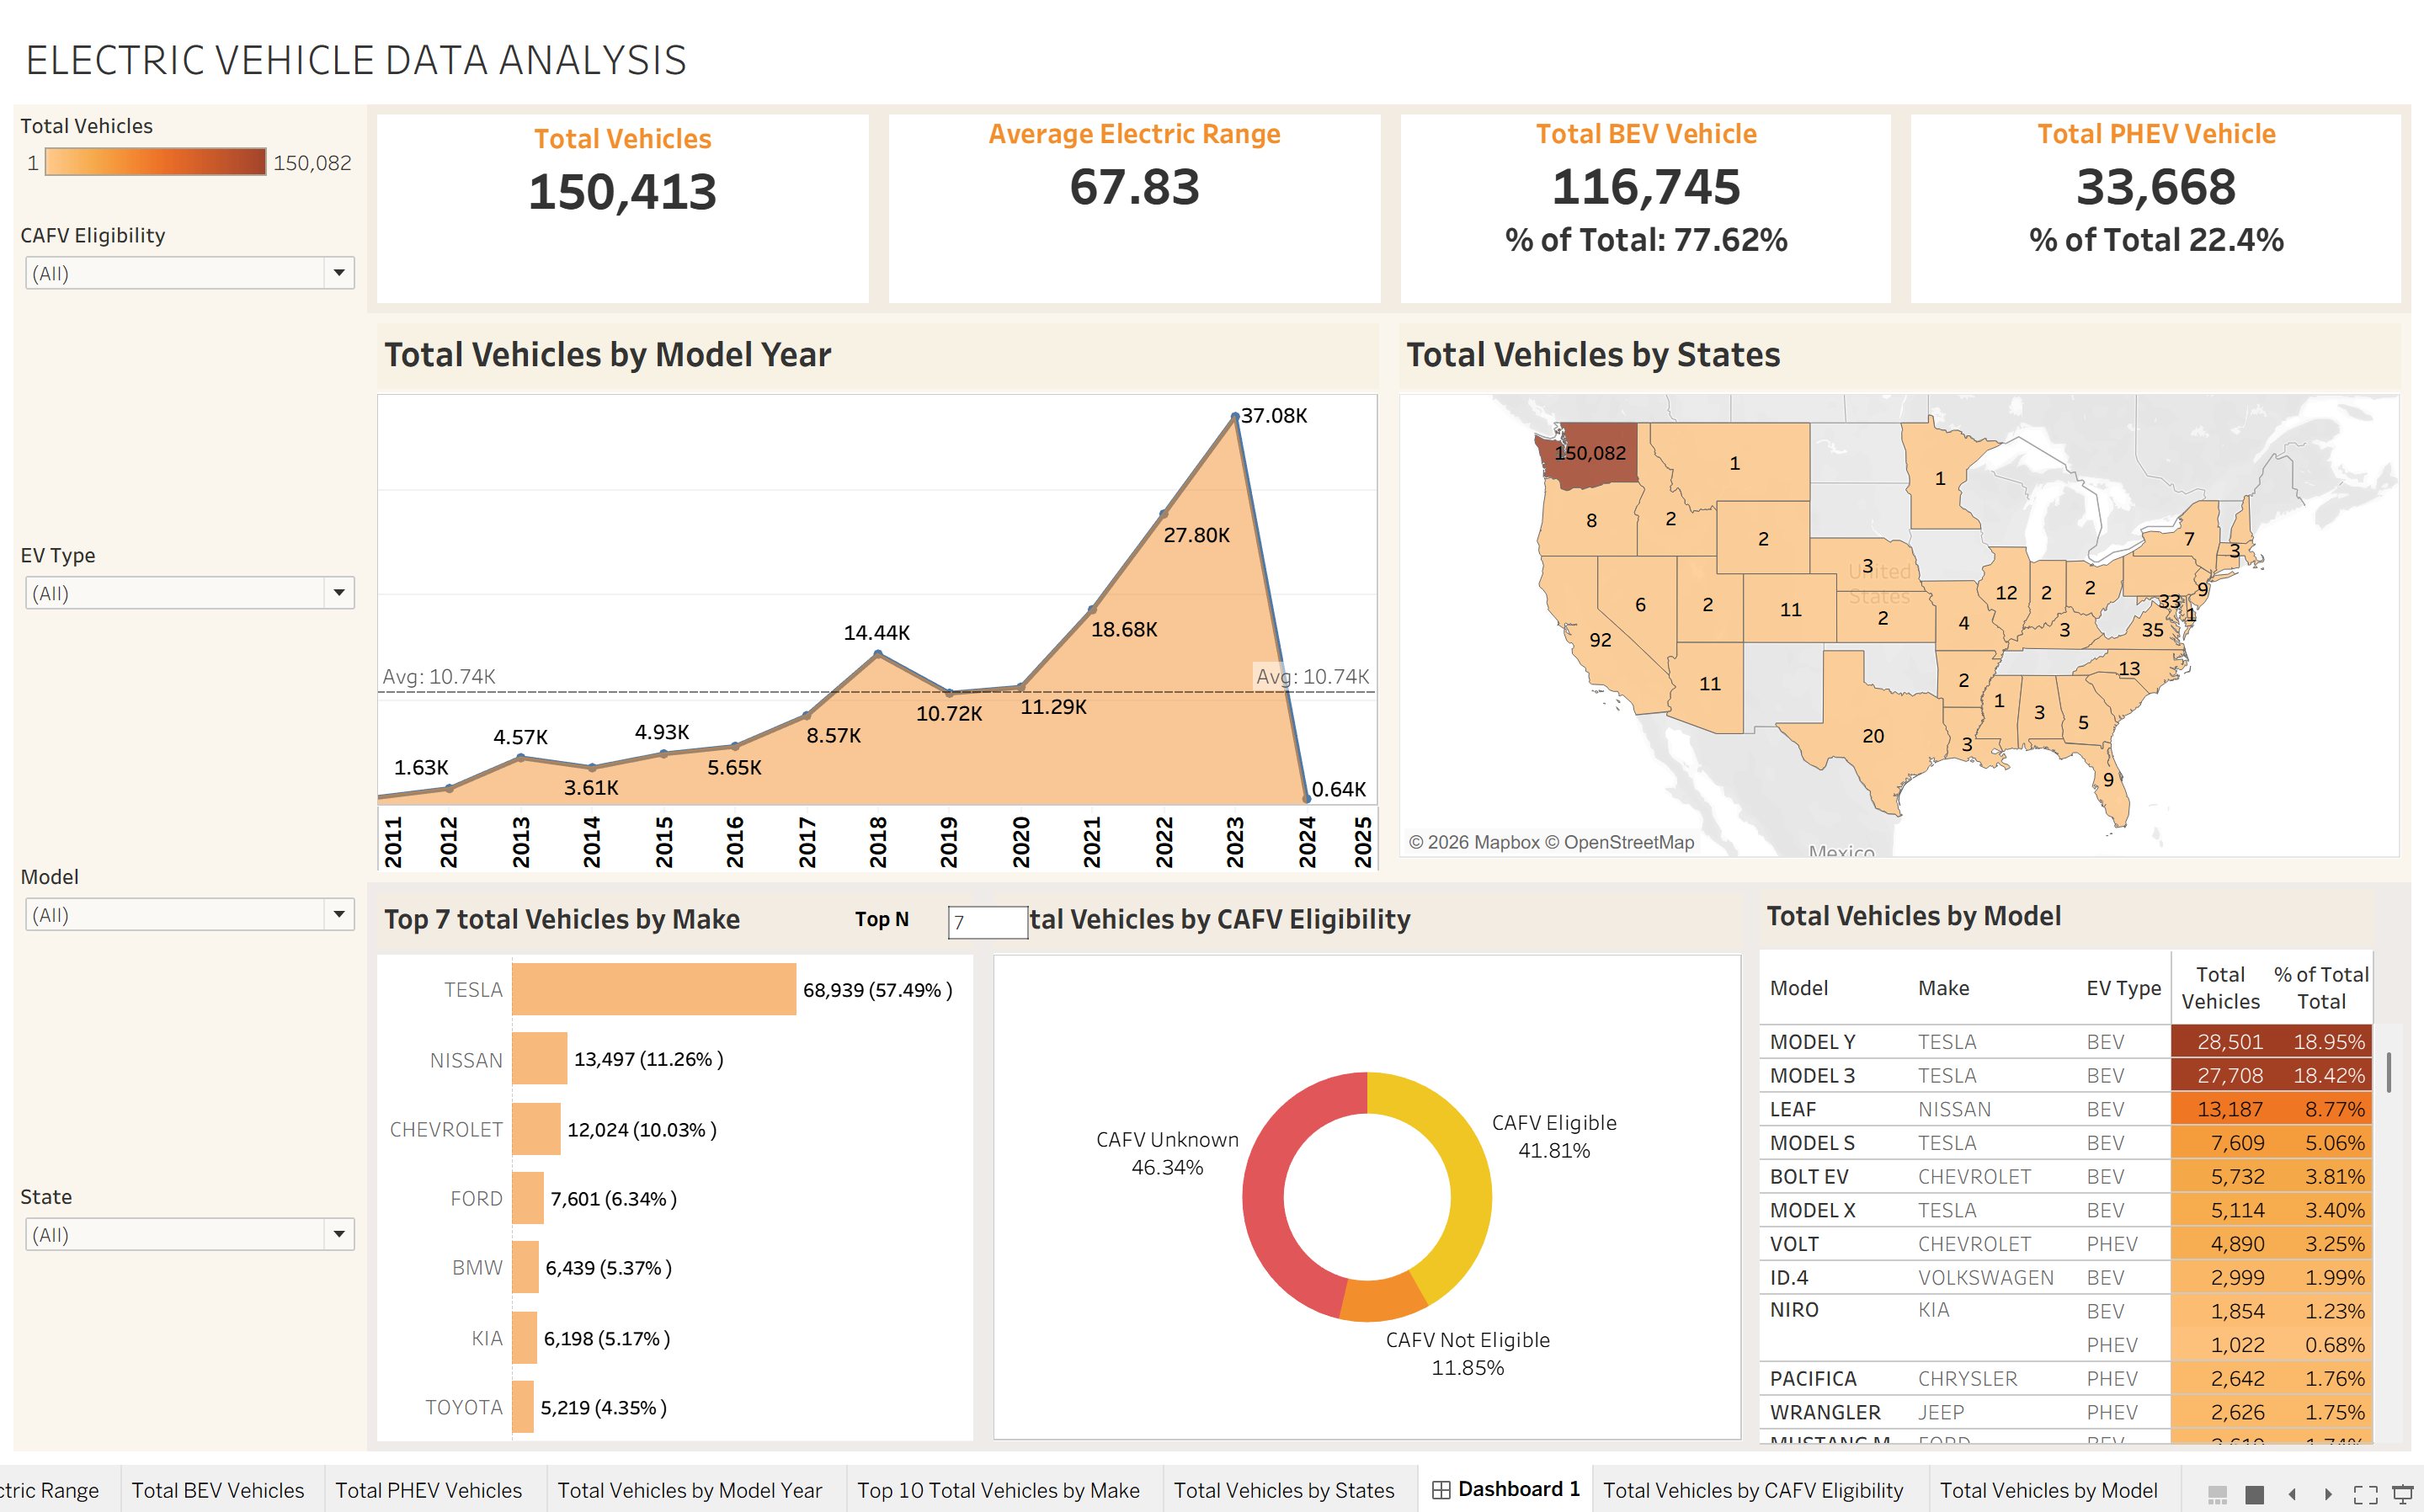

The page's visual inventory and layout, read from the dashboard file:
{"tool":"tableau","page":{"name":"Dashboard 1","canvas":[1000,1000],"units":"permille","ordinal":0},"visuals":[{"type":"title","box":[6.5,11.2,987,61.4]},{"type":"legend","title":"Total Vehicles by States","param":"[federated.1lwhfn50xj31sc145qq3x0dmc0c0].[usr:Calculation_0135836739756032:qk]","box":[6.5,72.6,145.6,90.8]},{"type":"worksheet","title":"Total Vehicles","mark":"Automatic","box":[152.2,72.6,210.7,142.5]},{"type":"worksheet","title":"Average Electric Range","mark":"Automatic","box":[362.9,72.6,210.7,142.5]},{"type":"worksheet","title":"Total BEV Vehicles","mark":"Automatic","box":[573.6,72.6,209.9,142.5]},{"type":"worksheet","title":"Total PHEV Vehicles ","mark":"Automatic","box":[783.6,72.6,209.9,142.5]},{"type":"filter","title":"Total Vehicles by States","param":"[federated.1lwhfn50xj31sc145qq3x0dmc0c0].[none:Clean Alternative Fuel Vehicle (C","box":[6.5,163.4,145.6,72.6]},{"type":"worksheet","title":"Total Vehicles by Model Year","mark":"Line","rows":["Calculation_0135836739756032","Calculation_0135836739756032"],"cols":["Model Year"],"box":[152.2,215.1,420.7,386.9]},{"type":"worksheet","title":"Total Vehicles by States","mark":"Multipolygon","box":[572.8,215.1,420.7,386.9]},{"type":"blank","box":[6.5,236,145.6,126.2]},{"type":"filter","title":"Top 10 Total Vehicles by Make","param":"[federated.1lwhfn50xj31sc145qq3x0dmc0c0].[none:Electric Vehicle Type:nk]","box":[6.5,362.2,145.6,72.6]},{"type":"blank","box":[6.5,434.8,145.6,126.2]},{"type":"filter","title":"Total Vehicles by States","param":"[federated.1lwhfn50xj31sc145qq3x0dmc0c0].[none:Model:nk]","box":[6.5,561,145.6,72.6]},{"type":"worksheet","title":"Top 10 Total Vehicles by Make","mark":"Automatic","rows":["Make"],"cols":["Calculation_0135836739756032"],"box":[152.1,601.9,297.8,386.9]},{"type":"worksheet","title":"Total Vehicles by CAFV Eligibility","mark":"Pie","rows":["Calculation_0135836764180489","Calculation_0135836764180489"],"box":[449.9,601.9,239.2,386.9]},{"type":"worksheet","title":"Total Vehicles by Model","mark":"Square","rows":["Model","Make","Electric Vehicle Type"],"box":[689.2,601.9,304.3,386.9]},{"type":"parameter","param":"[Parameters].[Parameter 1]","box":[336.1,610.3,92.8,43.3]},{"type":"blank","box":[6.5,633.6,145.6,126.2]},{"type":"filter","title":"Total Vehicles by States","param":"[federated.1lwhfn50xj31sc145qq3x0dmc0c0].[none:State:nk]","box":[6.5,759.8,145.6,229.1]}]}

Visuals, with their boxes on the dashboard's canvas, which has no fixed pixel size, in thousandths of its width and height (x1, y1, x2, y2). These are canvas units, not pixel positions in the 2424x1512 screenshot, which may show the page scaled, cropped or inside an application window:
title: <box>6,11,994,73</box>
"Total Vehicles by States" legend: <box>6,73,152,163</box>
"Total Vehicles" worksheet: <box>152,73,363,215</box>
"Average Electric Range" worksheet: <box>363,73,574,215</box>
"Total BEV Vehicles" worksheet: <box>574,73,784,215</box>
"Total PHEV Vehicles " worksheet: <box>784,73,994,215</box>
"Total Vehicles by States" filter: <box>6,163,152,236</box>
"Total Vehicles by Model Year" worksheet (Line marks): <box>152,215,573,602</box>
"Total Vehicles by States" worksheet (Multipolygon marks): <box>573,215,994,602</box>
blank: <box>6,236,152,362</box>
"Top 10 Total Vehicles by Make" filter: <box>6,362,152,435</box>
blank: <box>6,435,152,561</box>
"Total Vehicles by States" filter: <box>6,561,152,634</box>
"Top 10 Total Vehicles by Make" worksheet: <box>152,602,450,989</box>
"Total Vehicles by CAFV Eligibility" worksheet (Pie marks): <box>450,602,689,989</box>
"Total Vehicles by Model" worksheet (Square marks): <box>689,602,994,989</box>
parameter: <box>336,610,429,654</box>
blank: <box>6,634,152,760</box>
"Total Vehicles by States" filter: <box>6,760,152,989</box>
